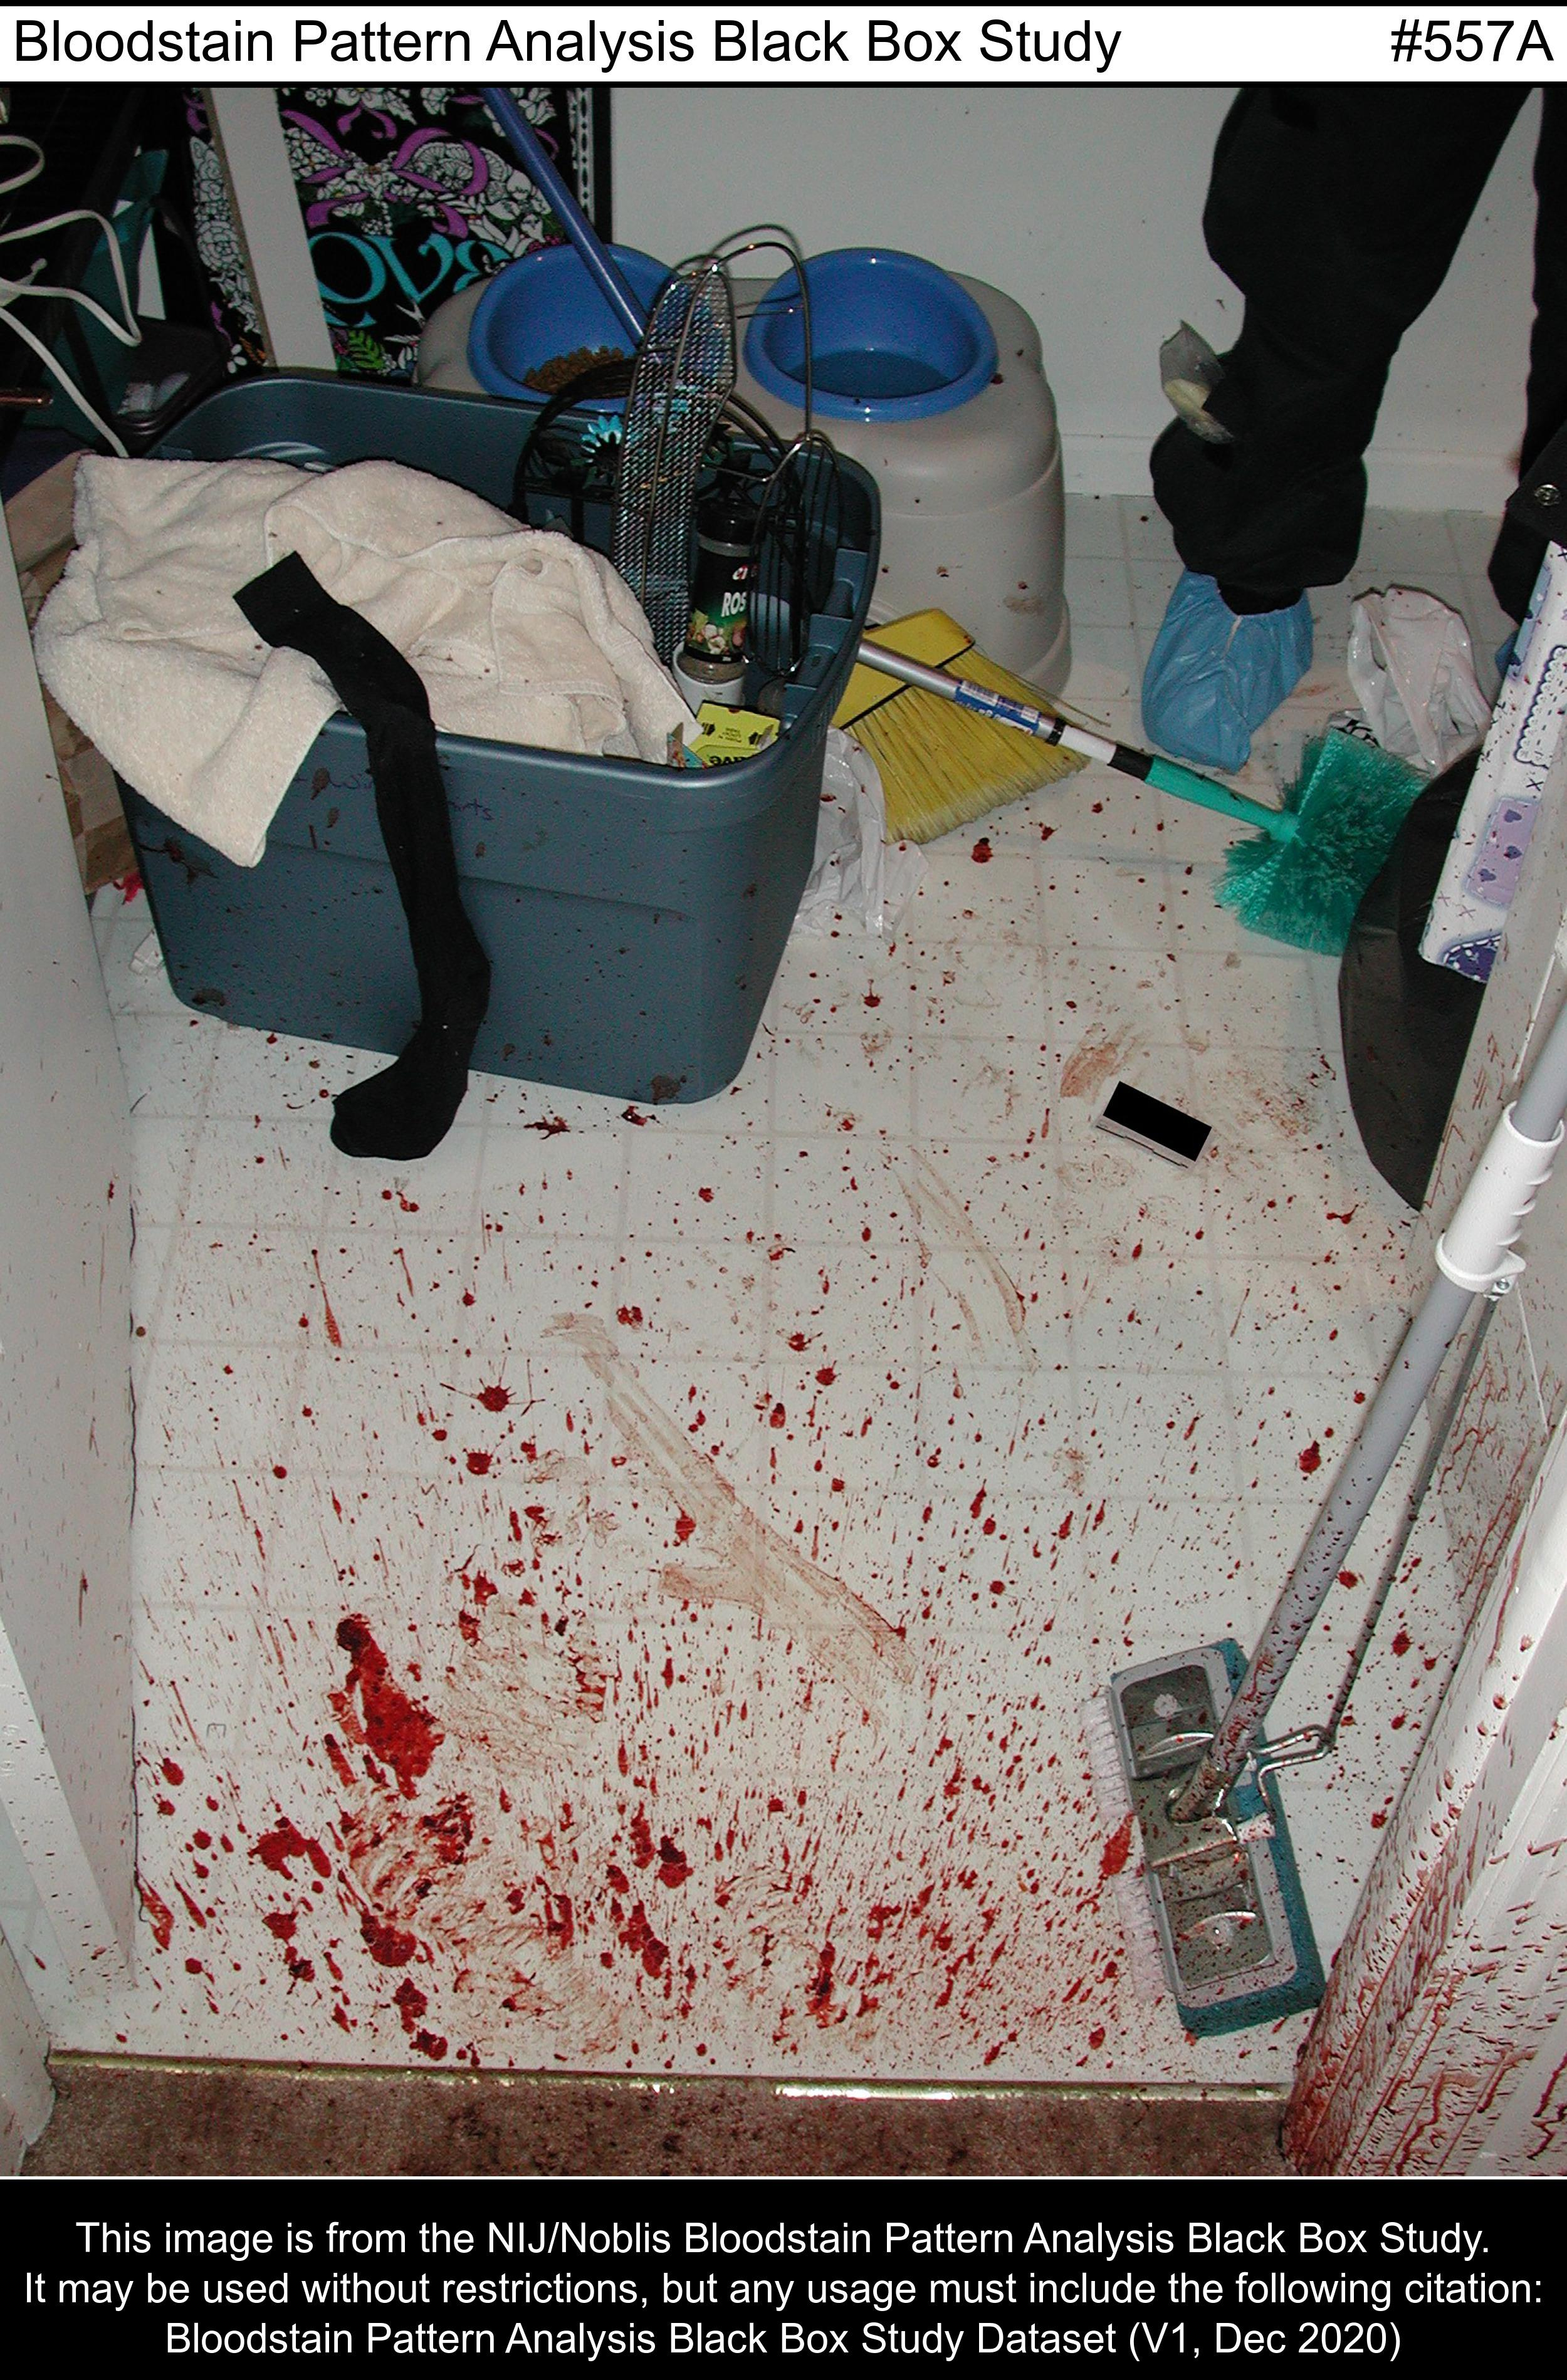Impact: (187, 1604, 1086, 2048), (484, 794, 719, 1095), (532, 2086, 1282, 2168), (1369, 1871, 1558, 2167), (1158, 1689, 1299, 1957)
